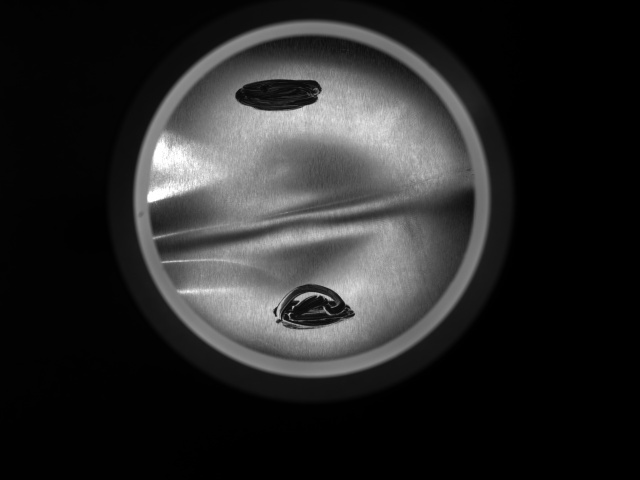zang_wu: (268, 277, 362, 331), (235, 74, 328, 119)
zhe_zhou: (189, 67, 434, 327)
